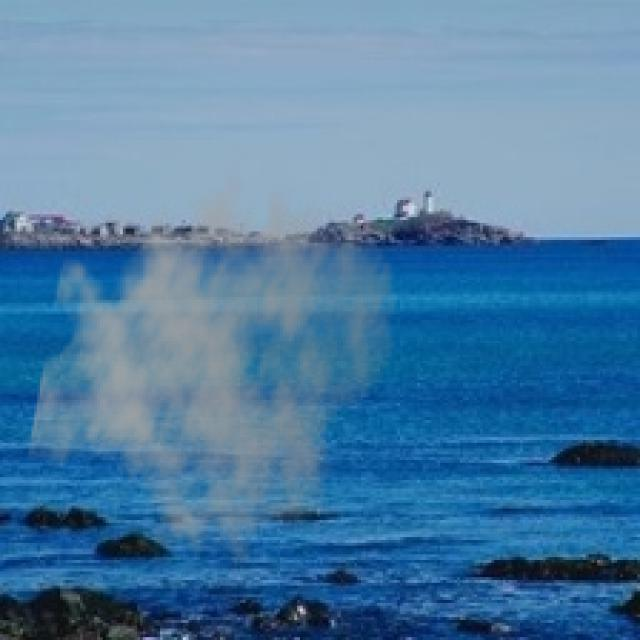smoke: (26, 146, 400, 571)
